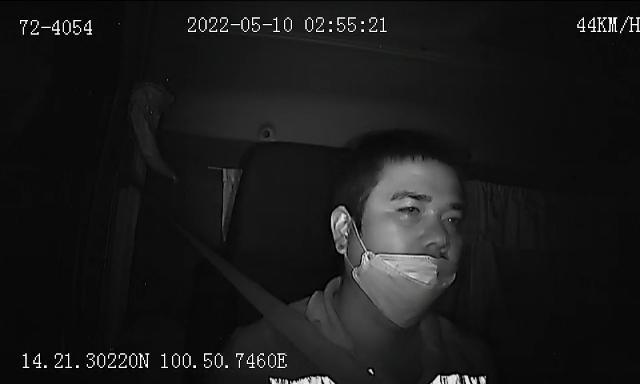SafeDriving: (389, 196, 428, 220), (438, 207, 467, 229)
Seatbelt: (203, 236, 381, 384)
